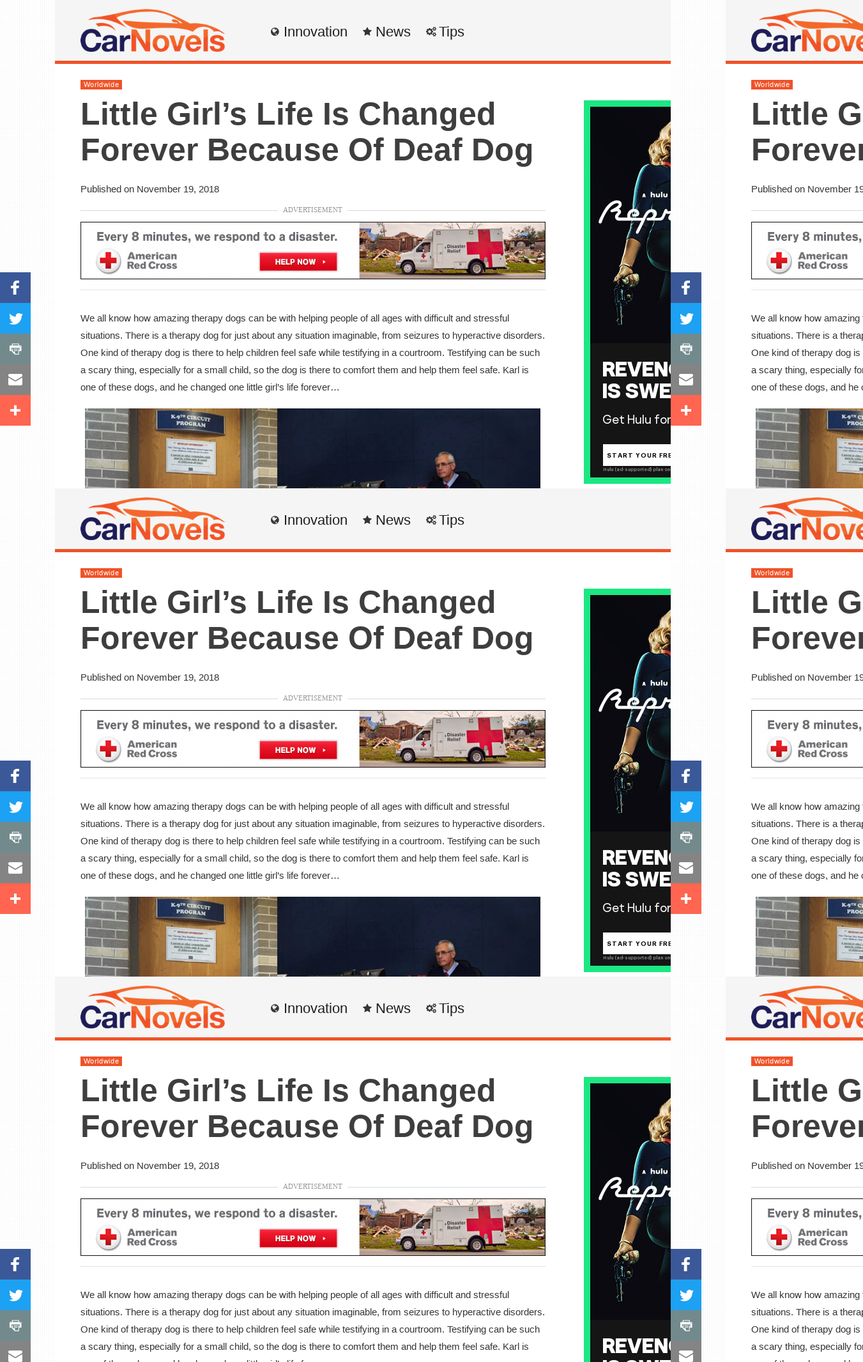fake_button: (255, 245, 348, 280), (255, 1221, 345, 1254), (251, 742, 349, 763)
